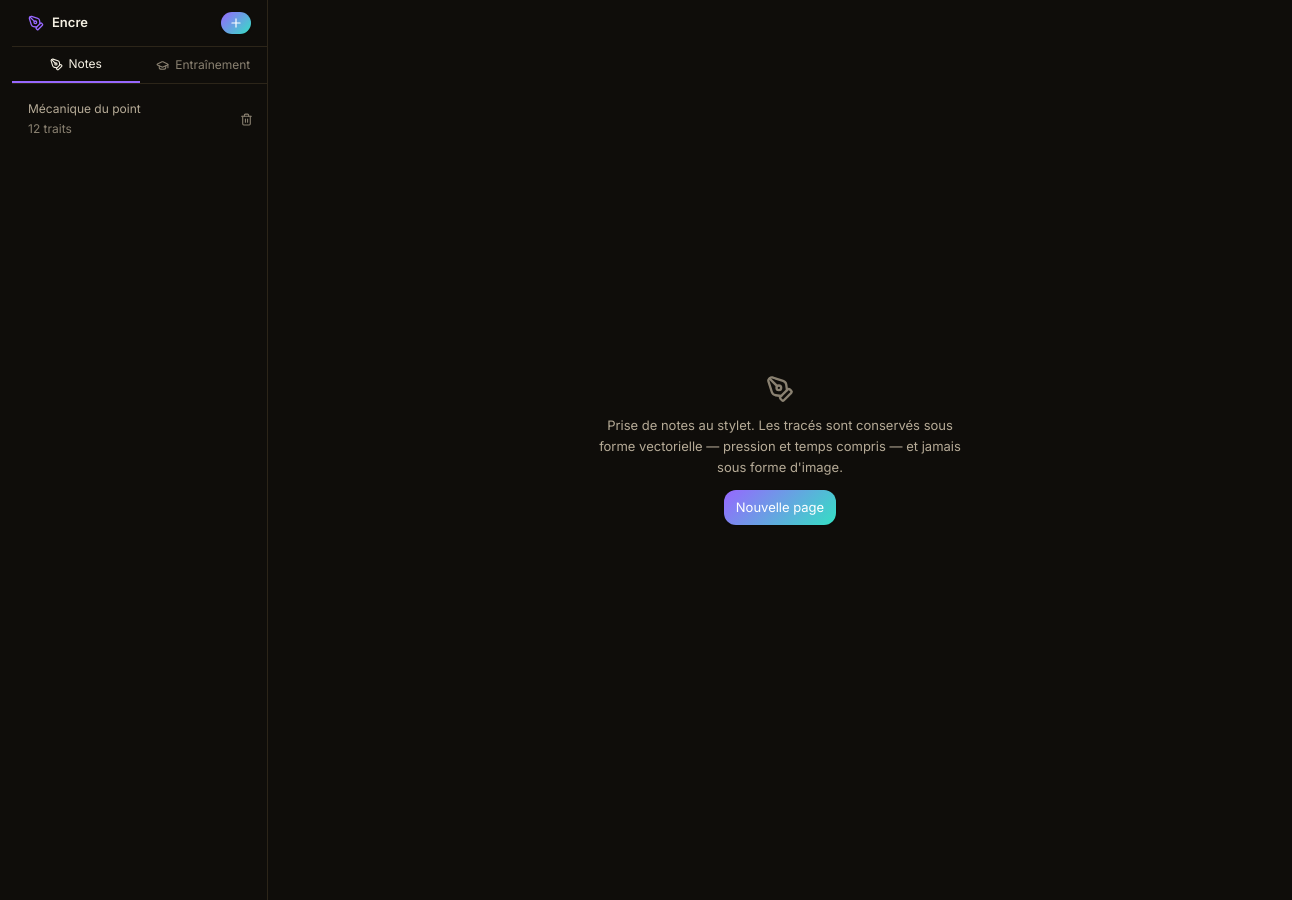
Test: module encre — frontières .json() › quitte la page au lieu d'afficher un canvas vide quand son chargement échoue
Click the text "Mécanique du point" at point(84, 108), box [28,101,141,116]
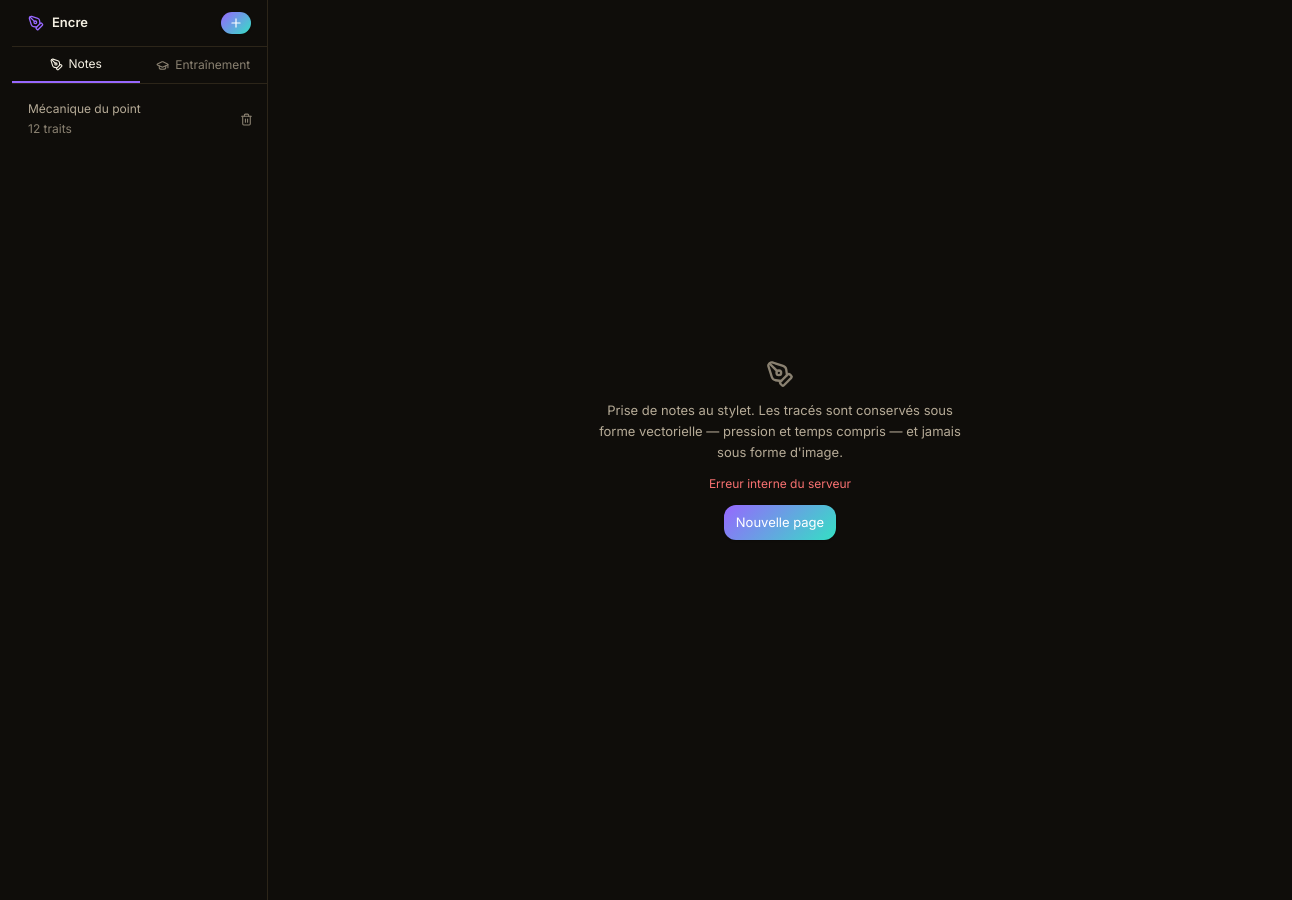
Expected: the message reads "Erreur interne du serveur", [709,476,851,491]
